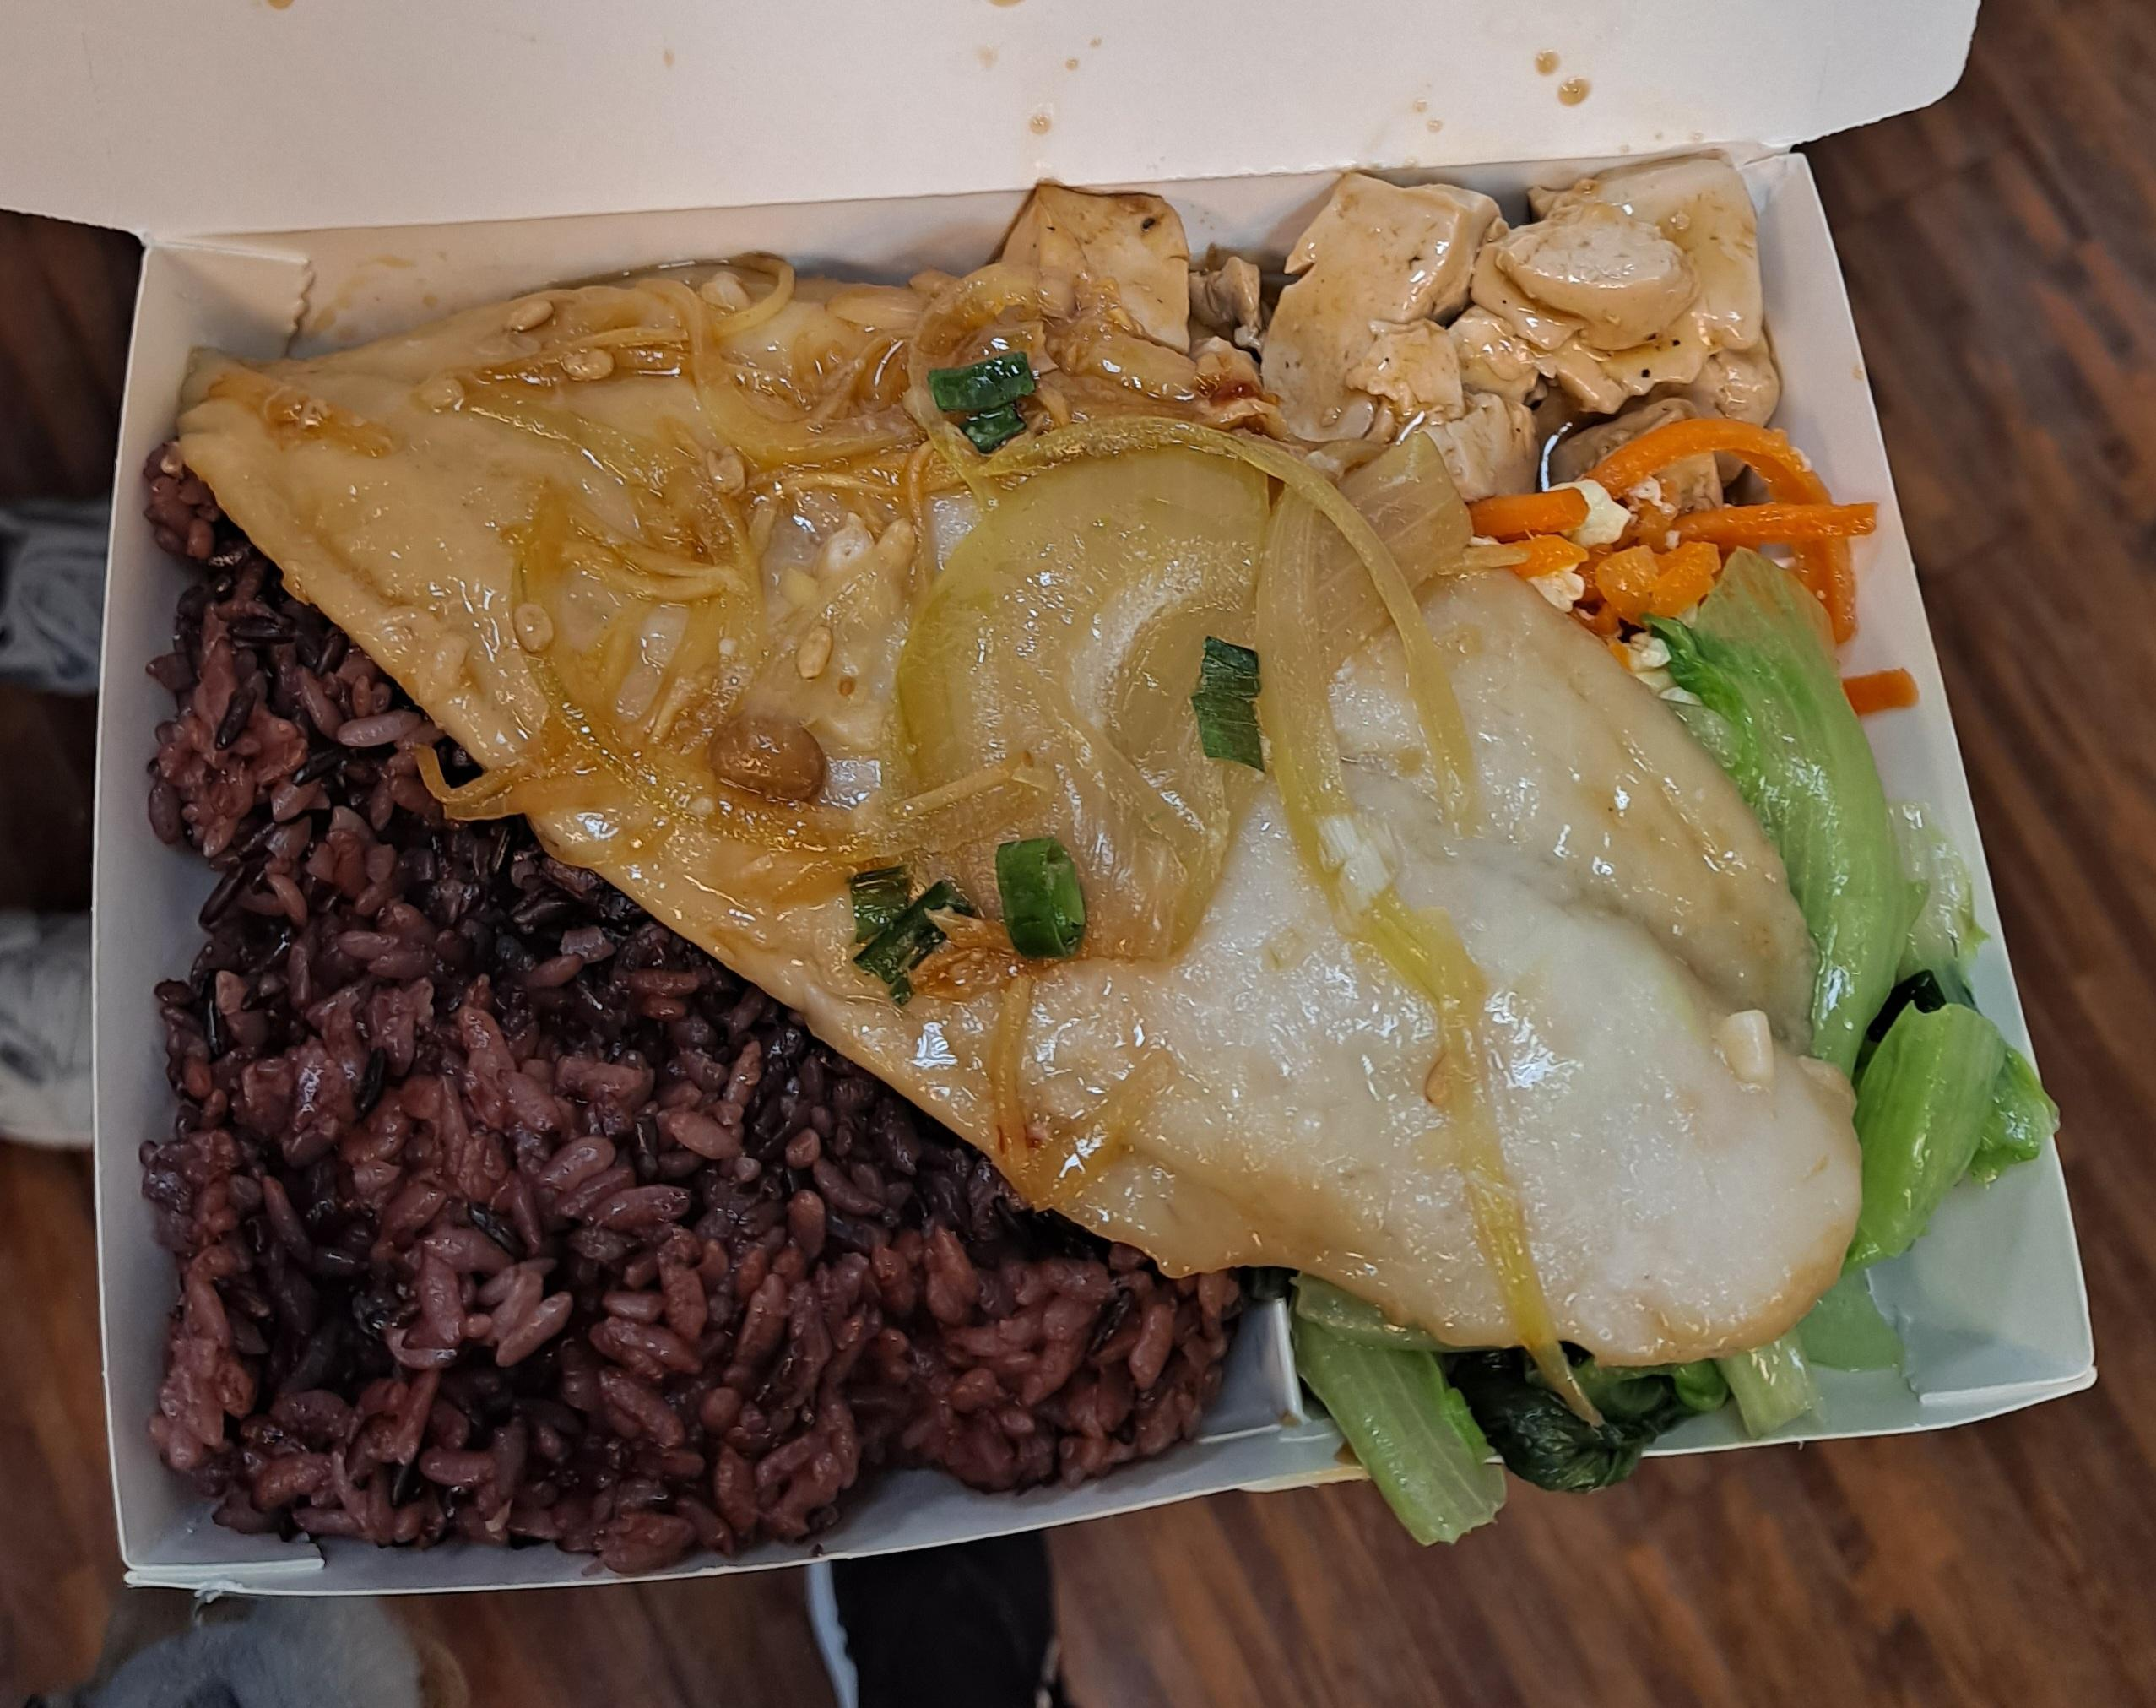big grilled chicken leg: (44, 157, 2142, 1622)
braised fish: (122, 436, 1258, 1522)
braised fish fillet: (1326, 618, 2035, 1473), (980, 178, 1767, 492), (1507, 444, 1855, 667)
braised pork ribs: (170, 289, 1851, 1381)
